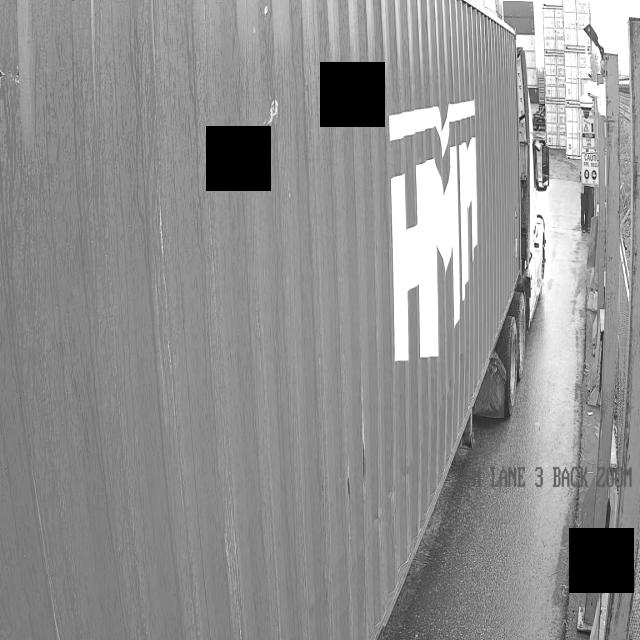container_company_logo: (351, 71, 533, 381)
truck_with_container: (0, 0, 536, 640)
